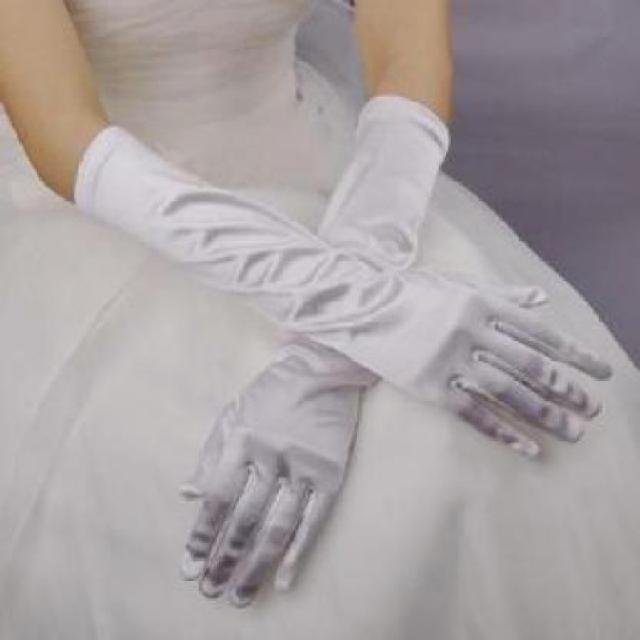hand_glove: (173, 369, 359, 611), (372, 275, 619, 456)
